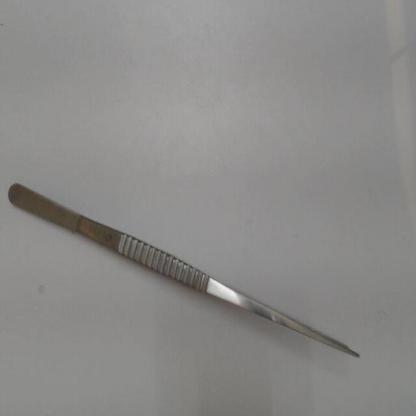DeBakey Dissector: (1, 171, 384, 390)
